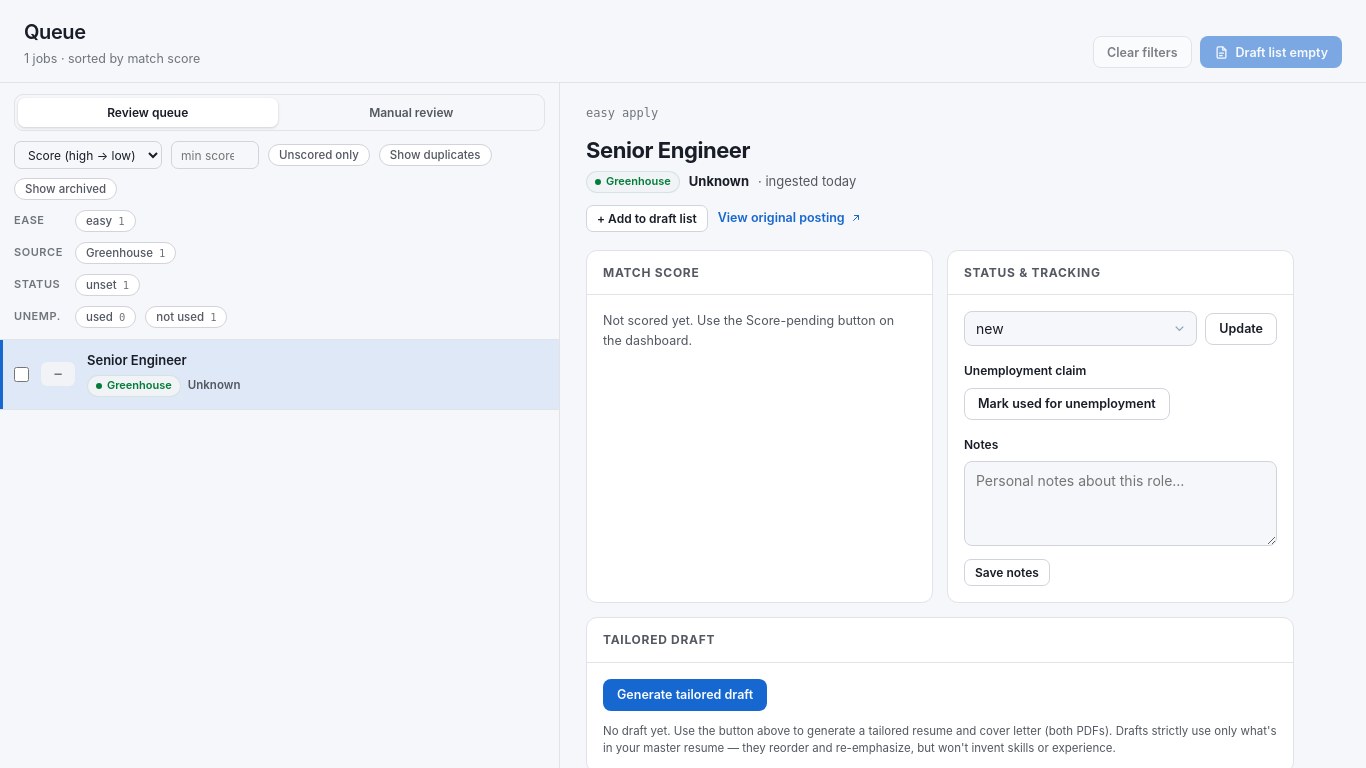
Test: Open N postings › is disabled when no selected row has a URL
Step 1. Click the checkbox named "select job" → [22, 374], box [14, 367, 29, 382]
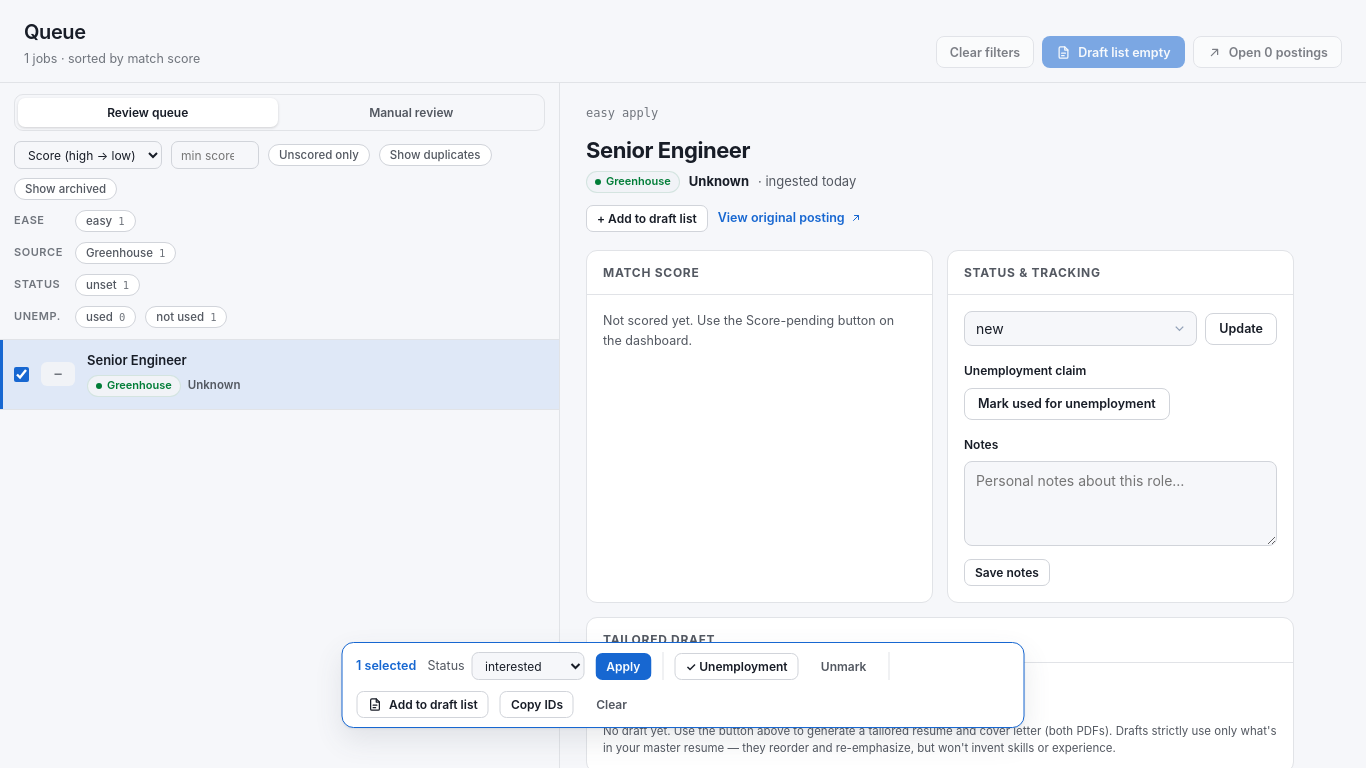
Expected: the button "Open 0 postings" is disabled, [1193, 36, 1342, 68]
